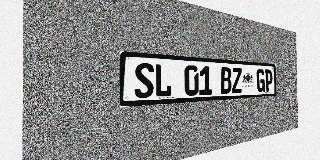0: (184, 65, 199, 96)
1: (199, 66, 212, 95)
B: (220, 67, 232, 94)
G: (256, 69, 265, 92)
L: (154, 63, 172, 98)
P: (265, 69, 273, 92)
S: (134, 62, 154, 99)
Z: (232, 68, 242, 93)
